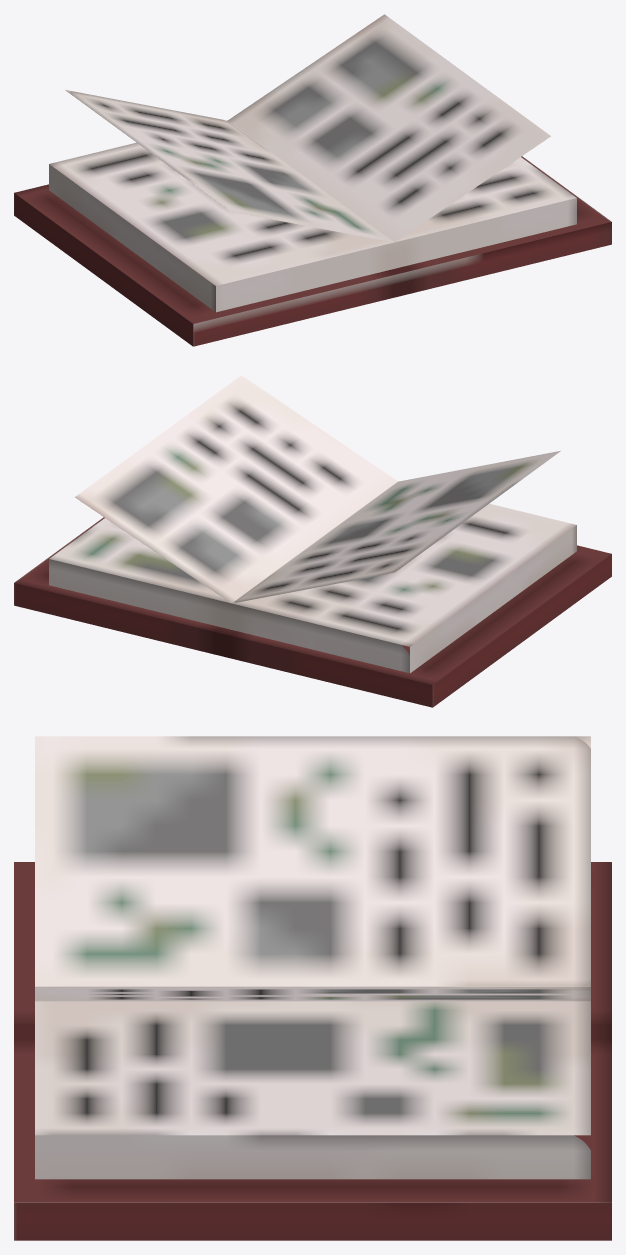
The model's file is diary.fbx.
The picture shows the model from 3 angles, top to bottom: view 1: azimuth 30°, elevation 25°; view 2: azimuth 150°, elevation 25°; view 3: azimuth 270°, elevation 25°; orthographic projection. The views are drawn at different scales.
Visible parts, largest first — view 1: cube_2, cube_1, cube, cube_3; view 2: cube_2, cube_1, cube, cube_3; view 3: cube_3, cube_1, cube, cube_2.
Part boxes in pixels (left/top/right/bottom): cube_2: left=228, top=14, right=550, bottom=242; cube_1: left=49, top=120, right=576, bottom=312; cube: left=14, top=156, right=611, bottom=346; cube_3: left=65, top=90, right=393, bottom=242; cube_2: left=75, top=375, right=397, bottom=603; cube_1: left=49, top=481, right=576, bottom=673; cube: left=14, top=517, right=611, bottom=707; cube_3: left=234, top=451, right=560, bottom=602; cube_3: left=35, top=736, right=590, bottom=986; cube_1: left=35, top=980, right=590, bottom=1179; cube: left=14, top=862, right=611, bottom=1240; cube_2: left=35, top=987, right=590, bottom=1001.
Size of the model in its own units: 72.5 by 19.8 by 53.75.
1 material, 1 textured.
